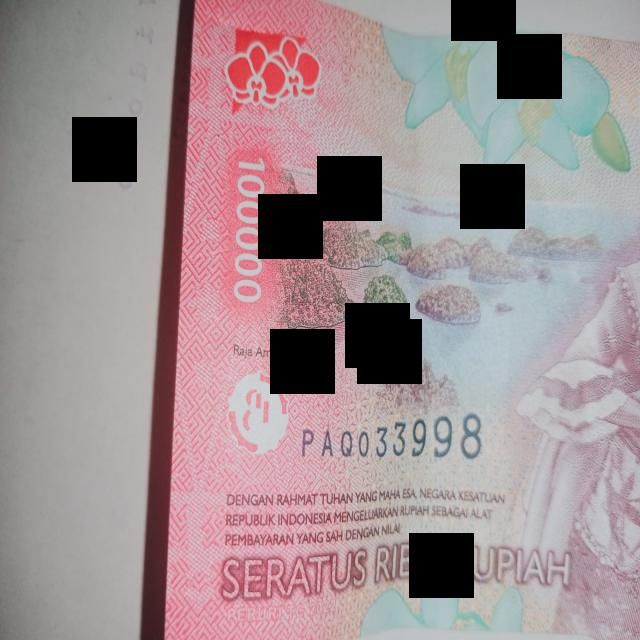seratusribu rupiah: (142, 2, 640, 638)
